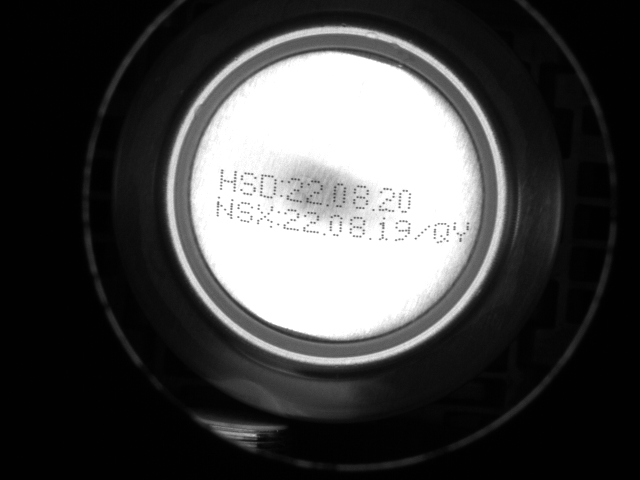/: (412, 219, 433, 242)
0: (324, 178, 349, 209), (322, 210, 347, 236), (396, 187, 415, 215)
1: (374, 215, 391, 242)
2: (371, 183, 396, 213), (301, 176, 326, 204), (281, 173, 304, 202), (275, 206, 301, 230), (302, 207, 320, 232)
8: (346, 215, 370, 240), (349, 183, 368, 210)
9: (390, 216, 414, 244)
D: (259, 172, 281, 198)
H: (216, 167, 237, 194)
N: (209, 195, 234, 221)
Q: (429, 219, 450, 243)
S: (238, 168, 261, 197), (236, 200, 256, 225)
X: (257, 203, 274, 226)
Y: (451, 219, 472, 244)
